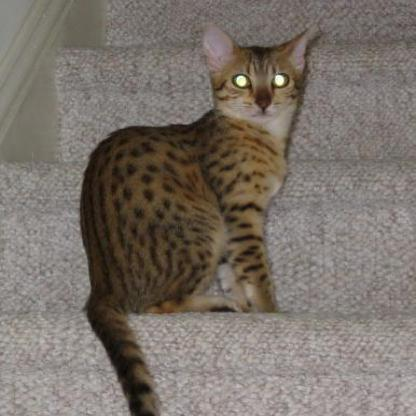cat: (79, 19, 310, 415)
